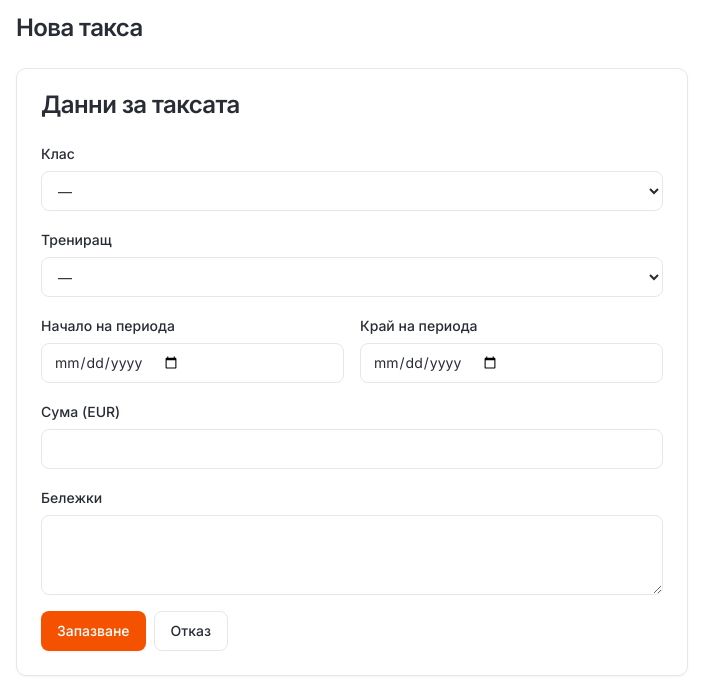
Test case: NewFeePage — amount › replaces the amount when the class changes, including one typed by hand
Select "Judo monthly" in the dropdown labelled "Клас" at (352, 191), box [41,171,663,211]
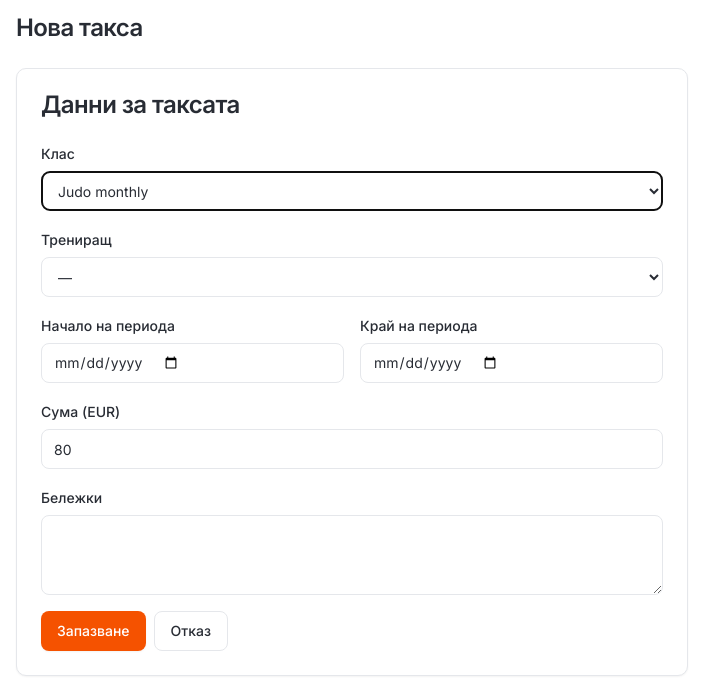
Replace the text in the number field labelled "Сума (EUR)" with "55" at (352, 449), box [41,429,663,469]
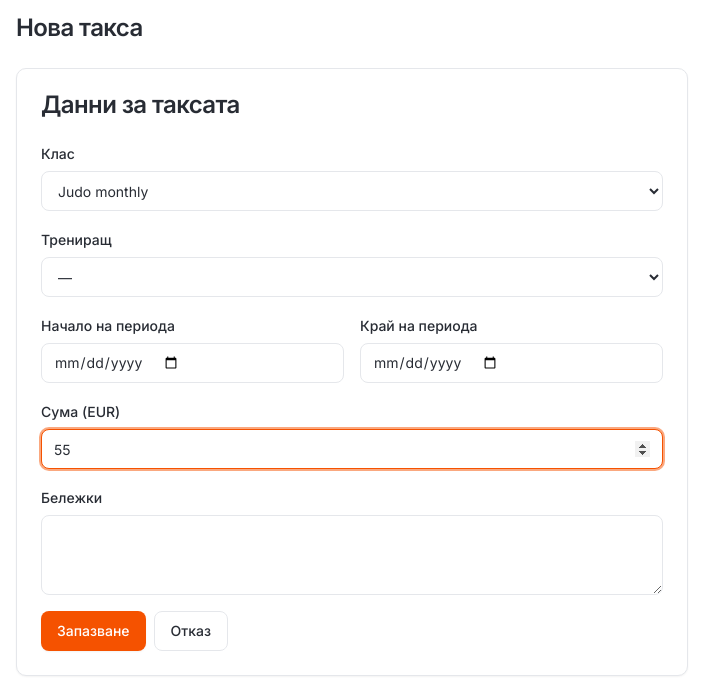
Select "Conditioning per session" in the dropdown labelled "Клас" at (352, 191), box [41,171,663,211]
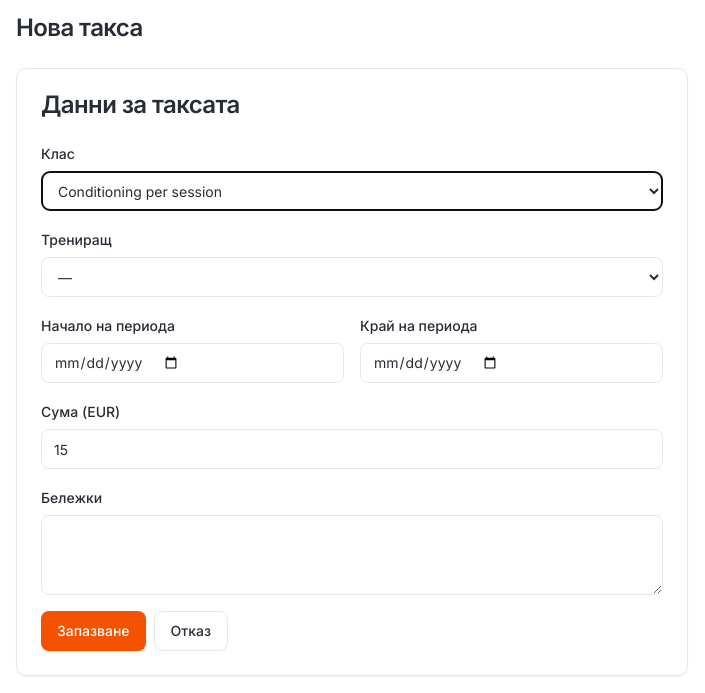
Now the number field labelled "Сума (EUR)" holds "15", box [41,429,663,469]
